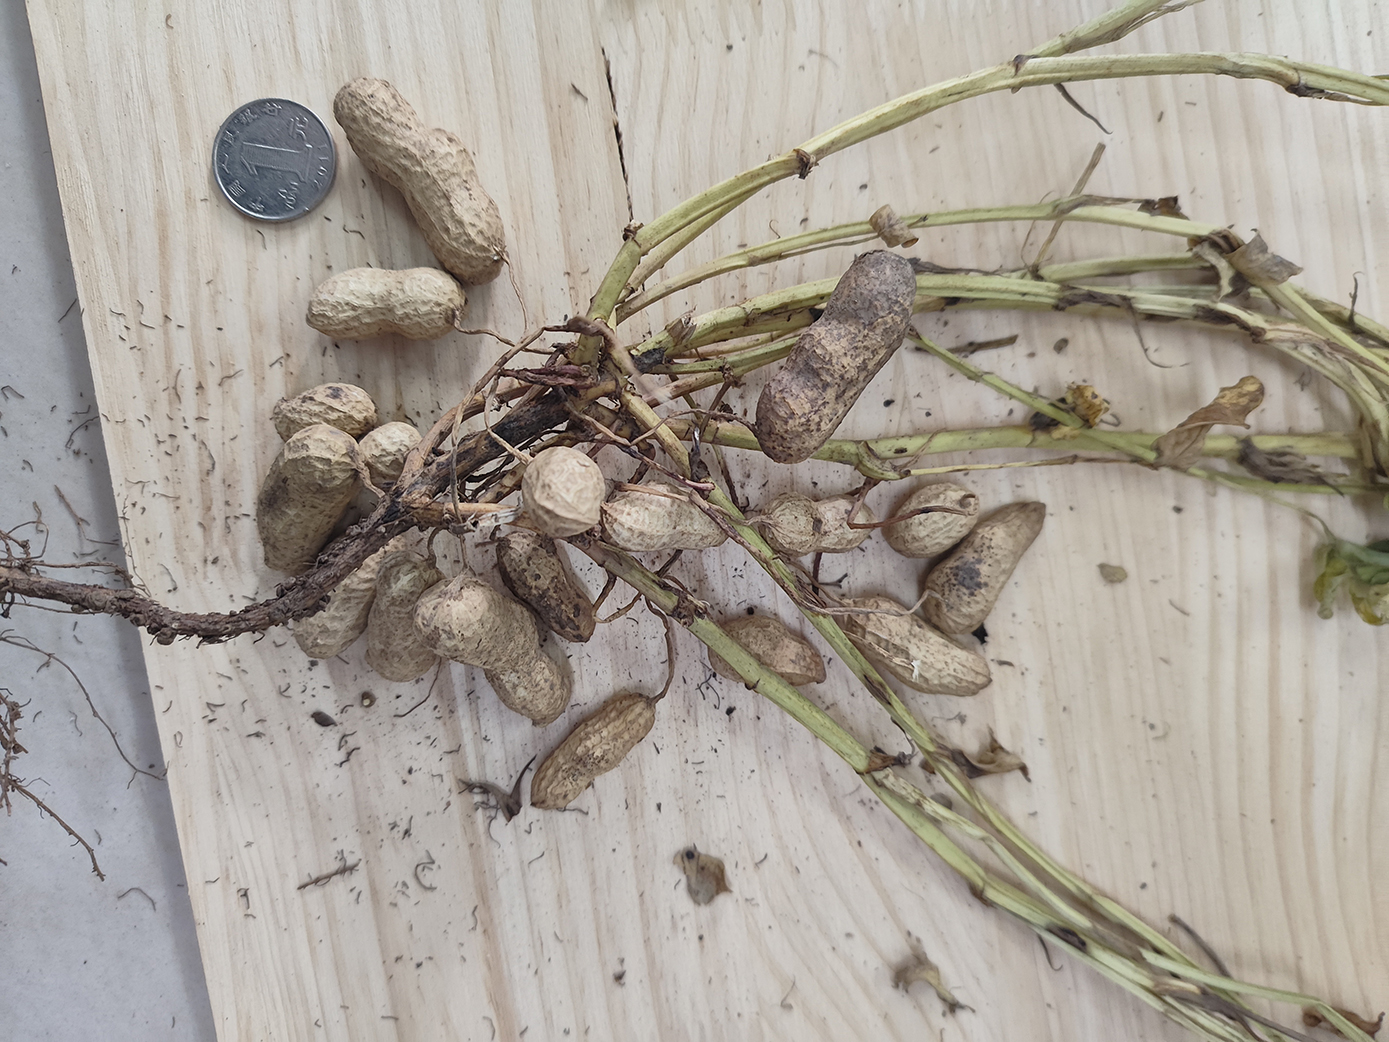h: (334, 76, 509, 283), (413, 577, 572, 725), (924, 503, 1046, 633), (288, 526, 403, 661), (257, 427, 357, 569), (845, 598, 991, 694), (532, 695, 651, 811), (308, 267, 465, 345), (501, 528, 591, 646), (708, 618, 827, 692), (370, 557, 438, 682), (604, 485, 733, 549), (523, 447, 603, 537), (886, 484, 980, 558), (761, 495, 875, 556), (273, 380, 377, 443), (352, 422, 427, 490)
l: (754, 248, 917, 465)
